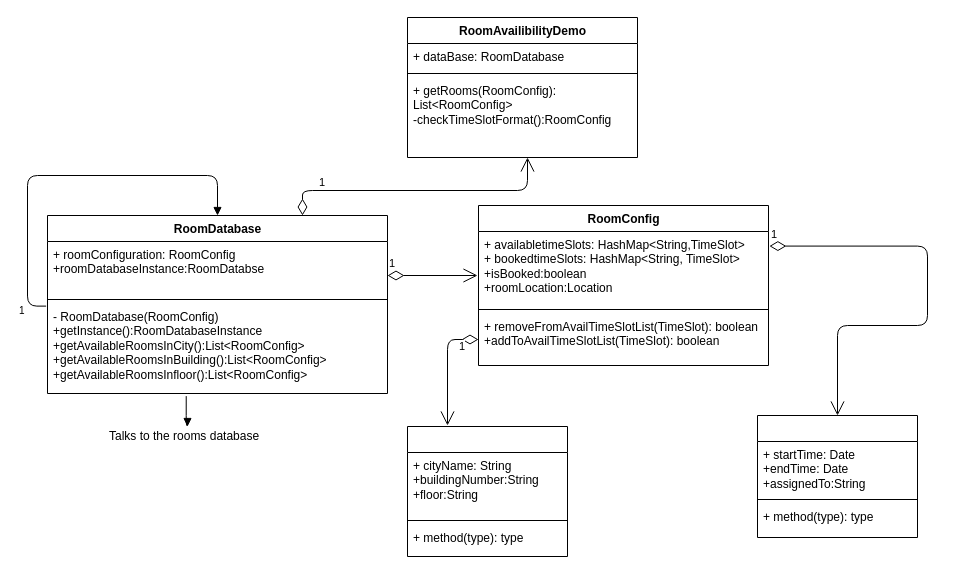
The diagram is 963 pixels wide and 577 high, and some of its shapes have lost their labels. Here are the shapes that lost their labels. From the top down, the box of each, then its label:
(406, 426, 568, 556): Location
(756, 414, 918, 538): TimeSlot
